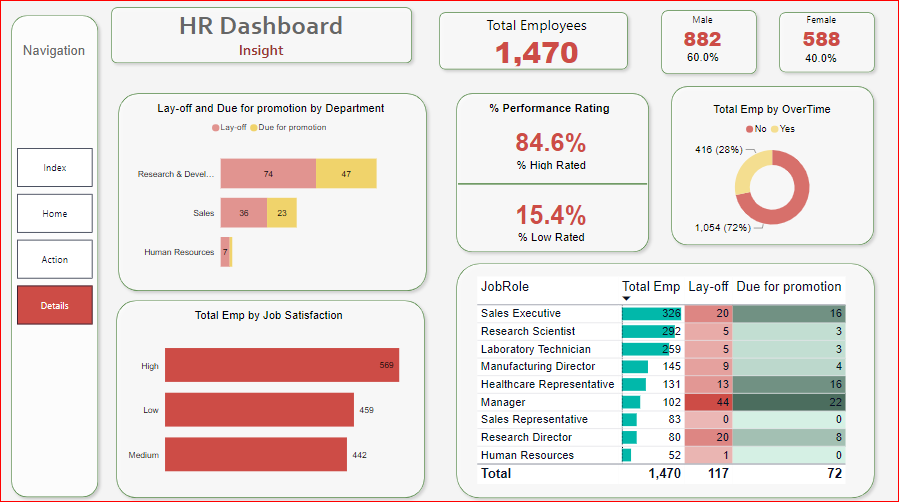

The dashboard page shown, as its layout file describes it:
{"tool":"powerbi","page":{"name":"Details","canvas":[1280,720],"ordinal":2},"visuals":[{"type":"shape","box":[10.2,18.9,141.1,701.1],"z":0},{"type":"card","title":"Female","fields":{"Values":["Measures (2).Female"]},"box":[1104.3,24.4,123.1,56.7],"z":0,"group":"g6"},{"type":"shape","box":[151.3,7.3,443.6,97.5],"z":1000,"group":"g3"},{"type":"group","id":"g1","title":"Group 3","box":[922.2,11.6,328.7,107.6],"z":1000},{"type":"card","title":"Male","fields":{"Values":["Measures (2).% Female"]},"box":[1089.1,66.9,153.4,46.8],"z":1000,"group":"g6"},{"type":"shape","box":[616.7,14.5,285.1,98.9],"z":2000,"group":"g2"},{"type":"shape","box":[945.5,119.3,305.5,242.9],"z":2000},{"type":"shape","box":[930.6,11.6,153.4,107.7],"z":3000,"group":"g1"},{"type":"group","id":"g2","title":"Group 4","box":[616.7,14.5,285.1,98.9],"z":3000},{"type":"group","id":"g3","title":"Group 5","box":[151.3,7.3,443.6,97.5],"z":4000},{"type":"shape","box":[1097.5,14.4,153.4,103.5],"z":4000,"group":"g1"},{"type":"group","id":"g4","title":"Group 2","box":[161.5,129.5,455.3,298.2],"z":5000},{"type":"shape","box":[161.5,129.5,455.3,298.2],"z":6000,"group":"g4"},{"type":"group","id":"g5","title":"Group 2","box":[158.5,421.8,455.3,298.2],"z":6000},{"type":"shape","box":[158.5,421.8,455.3,298.2],"z":6000,"group":"g5"},{"type":"donutChart","fields":{"Category":["HR Analytics Data.OverTime"],"Y":["Measures (2).Total Emp"]},"box":[955.6,151.3,283.6,193.5],"z":7000},{"type":"shape","box":[640,369.5,610.9,350.5],"z":8000},{"type":"textbox","box":[191.5,12.9,363.3,91.8],"z":9000,"group":"g3"},{"type":"tableEx","fields":{"Values":["HR Analytics Data.JobRole","Measures (2).Total Emp","Measures (2).Lay-off","Measures (2).Due for promotion"]},"box":[673.5,392.7,568.7,304],"z":9000},{"type":"card","title":"Total Employees","fields":{"Values":["Measures (2).Total Emp"]},"box":[638.9,26.3,248.4,78.5],"z":10000,"group":"g2"},{"type":"shape","box":[640,129.5,290.9,242.9],"z":10000},{"type":"card","fields":{"Values":["Measures (2).% High Rated"]},"box":[682.2,177.5,205.1,74.2],"z":11000},{"type":"card","fields":{"Values":["Measures (2).% Low Rated"]},"box":[682.2,279.3,205.1,75.6],"z":12000},{"type":"card","title":"Male","fields":{"Values":["Measures (2).Male"]},"box":[935.7,24.4,123.1,56.7],"z":13000,"group":"g1"},{"type":"shape","box":[651.6,251.6,267.6,27.6],"z":13000},{"type":"card","title":"Male","fields":{"Values":["Measures (2).% Male"]},"box":[922.2,65.5,153.4,46.8],"z":14000,"group":"g1"},{"type":"textbox","box":[676.4,144,210.9,39.3],"z":14000},{"type":"group","id":"g6","title":"Group 1","box":[1089.1,24.4,153.4,89.3],"z":15000,"group":"g1"},{"type":"pageNavigator","box":[27.6,215.3,107.6,251.6],"z":15000},{"type":"textbox","box":[0,61.1,158.5,43.6],"z":16000},{"type":"barChart","fields":{"Category":["HR Analytics Data.Department"],"Y":["Measures (2).Lay-off","Measures (2).Due for promotion"]},"box":[179,151.3,416,263.3],"z":18001,"group":"g4"},{"type":"barChart","fields":{"Category":["HR Analytics Data.Job Satisfaction","HR Analytics Data.Department"],"Y":["Measures (2).Total Emp"]},"box":[176,443.6,416,263.3],"z":18001,"group":"g5"}]}

Visuals, with their boxes in screenshot pixels (x1, y1, x2, y2), scaled from the page's 1280x720 canvas onto the 899x502 screenshot:
shape: BBox(7, 13, 106, 501)
"Female" card: BBox(776, 17, 862, 57)
shape: BBox(106, 5, 418, 73)
"Group 3" group: BBox(648, 8, 879, 83)
"Male" card: BBox(765, 47, 873, 79)
shape: BBox(433, 10, 633, 79)
shape: BBox(664, 83, 879, 253)
shape: BBox(654, 8, 761, 83)
"Group 4" group: BBox(433, 10, 633, 79)
"Group 5" group: BBox(106, 5, 418, 73)
shape: BBox(771, 10, 879, 82)
"Group 2" group: BBox(113, 90, 433, 298)
shape: BBox(113, 90, 433, 298)
"Group 2" group: BBox(111, 294, 431, 501)
shape: BBox(111, 294, 431, 501)
donutChart - HR Analytics Data.OverTime x Measures (2).Total Emp: BBox(671, 105, 870, 240)
shape: BBox(450, 258, 879, 501)
textbox: BBox(134, 9, 390, 73)
tableEx - HR Analytics Data.JobRole x Measures (2).Total Emp: BBox(473, 274, 872, 486)
"Total Employees" card: BBox(449, 18, 623, 73)
shape: BBox(450, 90, 654, 260)
card - Measures (2).% High Rated: BBox(479, 124, 623, 175)
card - Measures (2).% Low Rated: BBox(479, 195, 623, 247)
"Male" card: BBox(657, 17, 744, 57)
shape: BBox(458, 175, 646, 195)
"Male" card: BBox(648, 46, 755, 78)
textbox: BBox(475, 100, 623, 128)
"Group 1" group: BBox(765, 17, 873, 79)
pageNavigator: BBox(19, 150, 95, 326)
textbox: BBox(0, 43, 111, 73)
barChart - HR Analytics Data.Department x Measures (2).Lay-off: BBox(126, 105, 418, 289)
barChart - HR Analytics Data.Job Satisfaction x HR Analytics Data.Department: BBox(124, 309, 416, 493)
